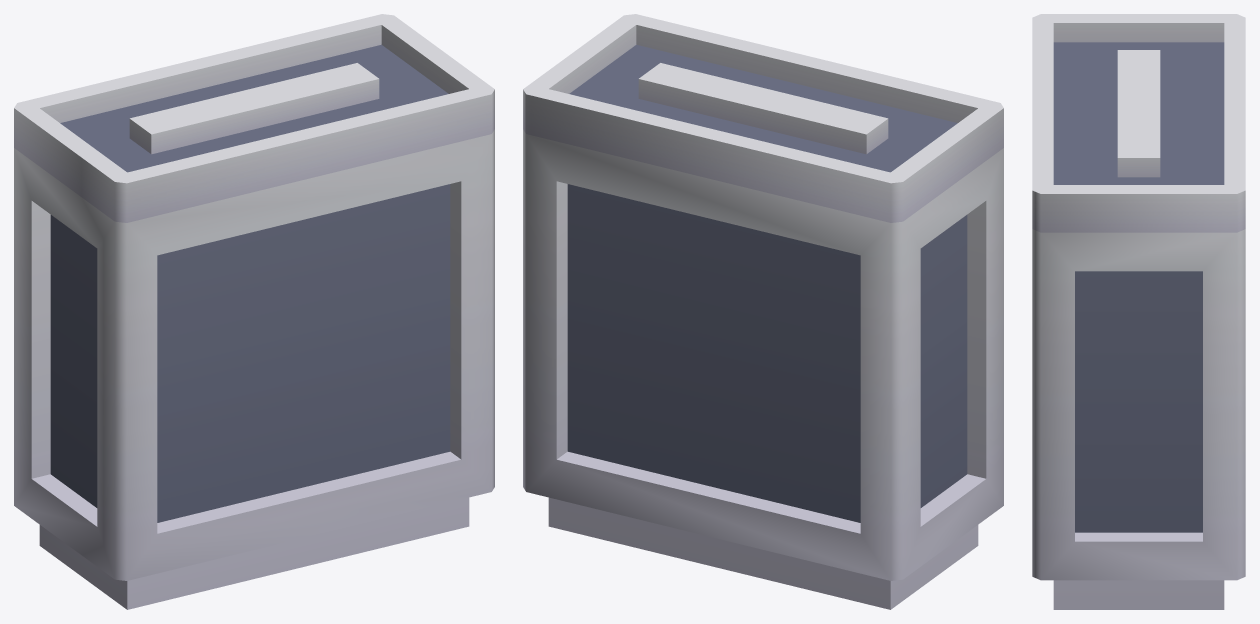
File: low-detail-building-wide-a.glb
The picture shows the model from 3 angles, left to right: view 1: azimuth 30°, elevation 25°; view 2: azimuth 150°, elevation 25°; view 3: azimuth 270°, elevation 25°; orthographic projection. The views are drawn at different scales.
Parts seen in each view (by area): view 1: low-detail-building-wide-a; view 2: low-detail-building-wide-a; view 3: low-detail-building-wide-a.
Part boxes in pixels (<box>): low-detail-building-wide-a: <box>14,14,494,609</box>; low-detail-building-wide-a: <box>523,14,1003,609</box>; low-detail-building-wide-a: <box>1032,14,1245,609</box>.
Bounding box in the file's own units: 1 × 1.1 × 0.5.
Materials: 1 (1 with a texture image).
